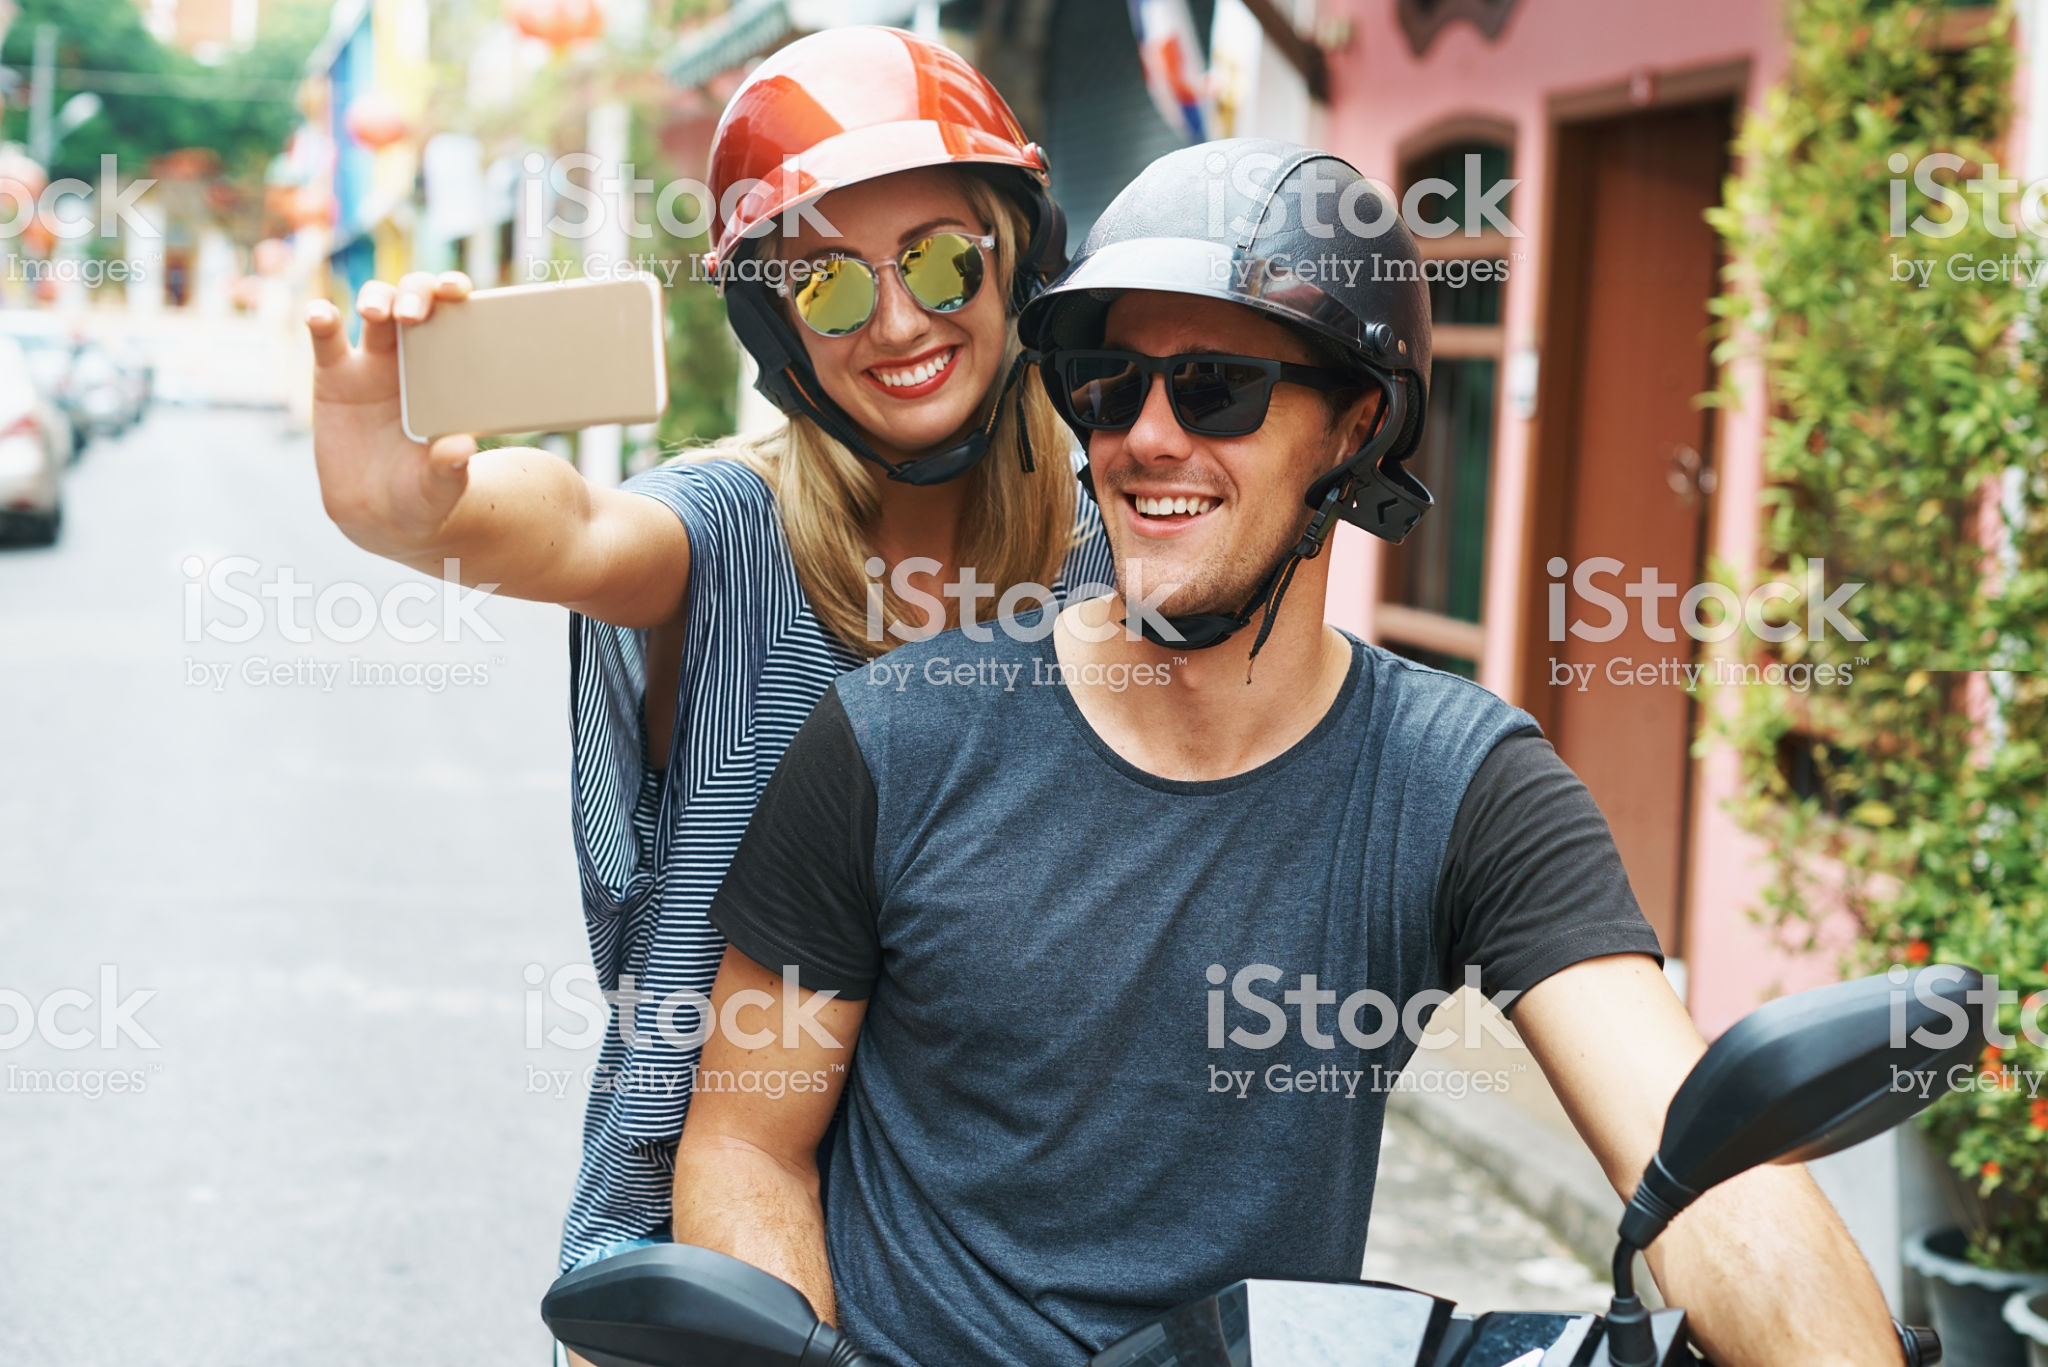helmet: (1084, 146, 1481, 423), (671, 40, 1042, 227)
